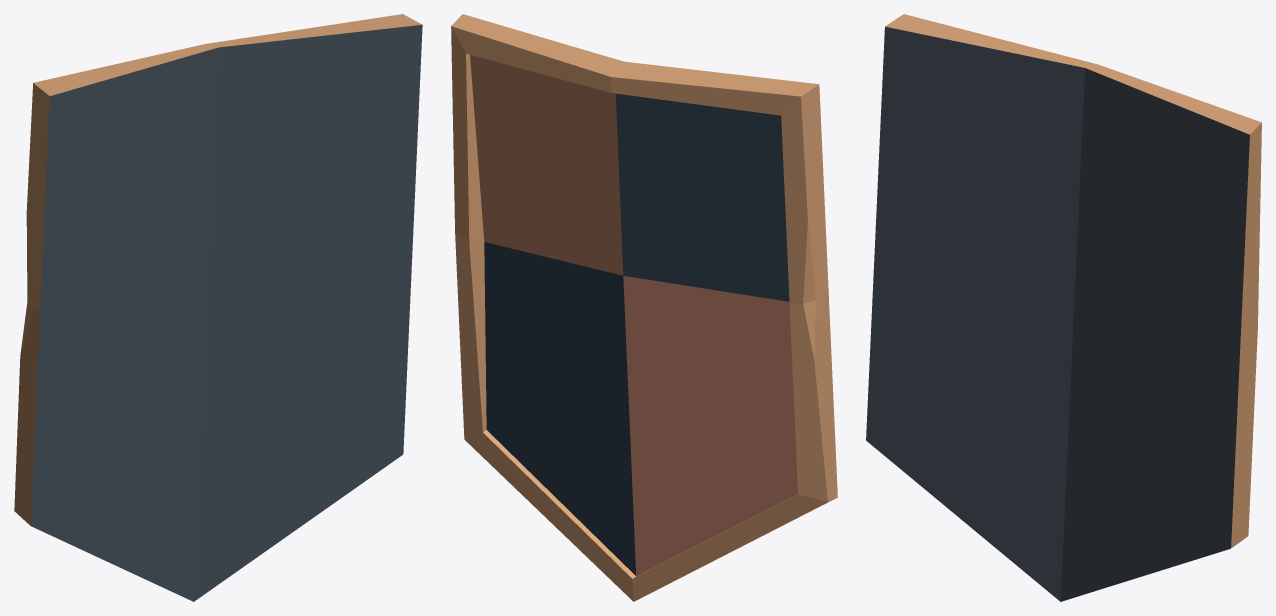
File: shield.fbx
The picture shows the model from 3 angles, left to right: view 1: azimuth 30°, elevation 25°; view 2: azimuth 150°, elevation 25°; view 3: azimuth 330°, elevation 25°; orthographic projection. The views are drawn at different scales.
Visible parts, largest first — view 1: Cube.001; view 2: Cube.001; view 3: Cube.001.
Boxes of the visible parts, x1=… form: Cube.001: x1=14, y1=14, x2=422, y2=601; Cube.001: x1=451, y1=14, x2=837, y2=601; Cube.001: x1=866, y1=14, x2=1261, y2=601.
Size of the model in its own units: 2.41 by 3.25 by 0.3466.
